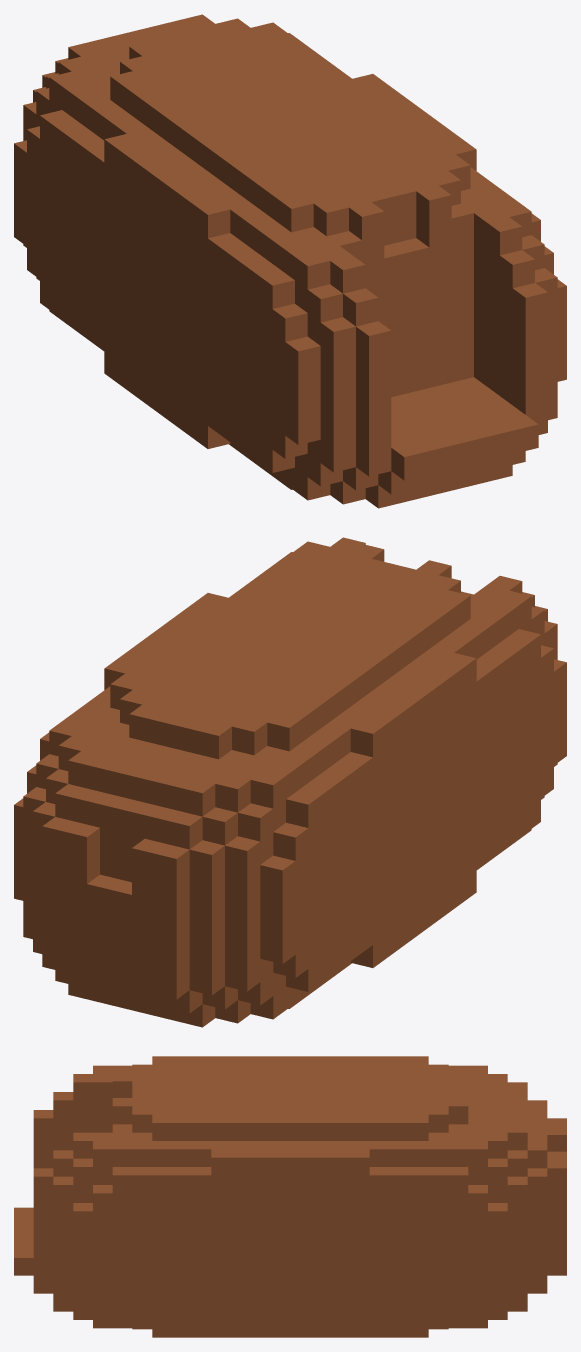
Rendered from horse__body.glb.
The picture shows the model from 3 angles, top to bottom: view 1: azimuth 30°, elevation 25°; view 2: azimuth 150°, elevation 25°; view 3: azimuth 270°, elevation 25°; orthographic projection. The views are drawn at different scales.
Visible parts, largest first — view 1: horse__body; view 2: horse__body; view 3: horse__body.
Boxes of the visible parts, <box> form: horse__body: <box>14,14,566,508</box>; horse__body: <box>14,537,566,1027</box>; horse__body: <box>14,1056,566,1337</box>.
Bounding box in the file's own units: 1.2 × 1.2 × 2.8.
1 material, 1 textured.
